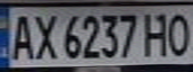2: (78, 10, 103, 61)
3: (100, 10, 121, 60)
6: (60, 11, 84, 61)
7: (118, 10, 142, 58)
A: (6, 10, 36, 61)
H: (139, 9, 172, 57)
O: (163, 9, 193, 57)
X: (30, 10, 60, 61)
